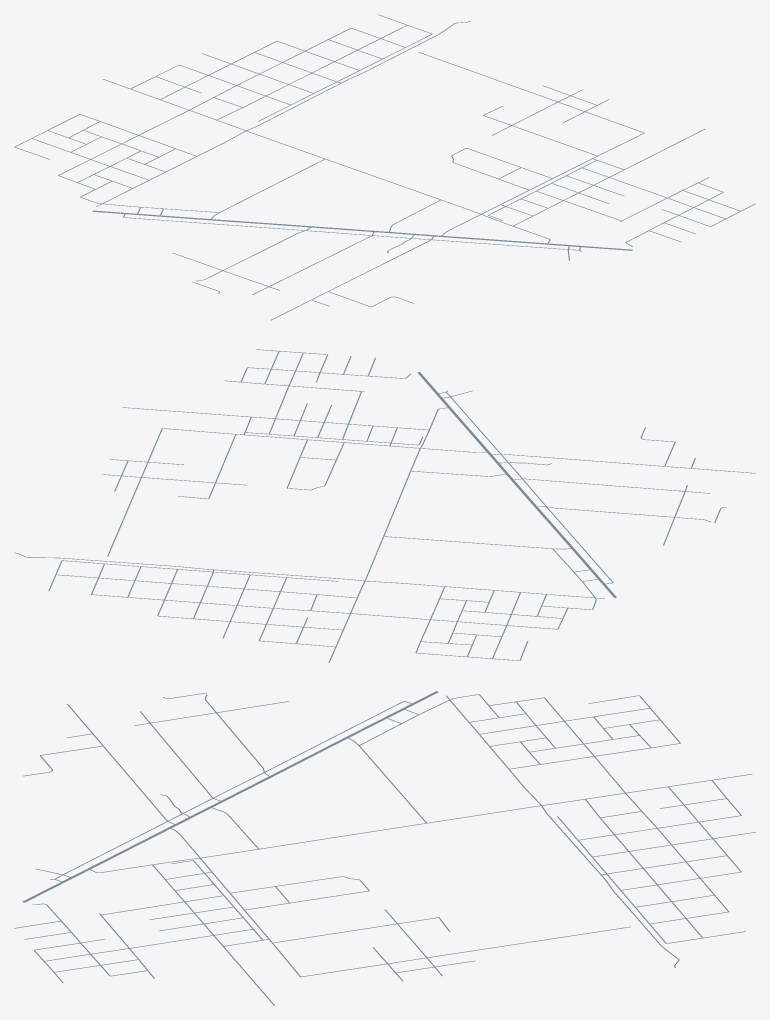
3 views of the same model, one above another, from view 1: azimuth 30°, elevation 25°; view 2: azimuth 150°, elevation 25°; view 3: azimuth 270°, elevation 25° (orthographic). The views are drawn at different scales.
Size of the model in its own units: 2122 by 0 by 2113.
